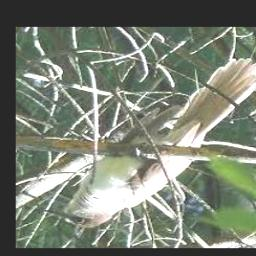Cuckoo: (43, 59, 256, 227)
